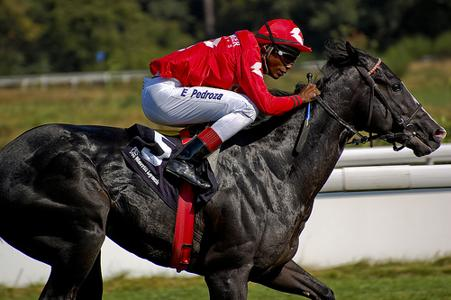person: (141, 19, 325, 192)
